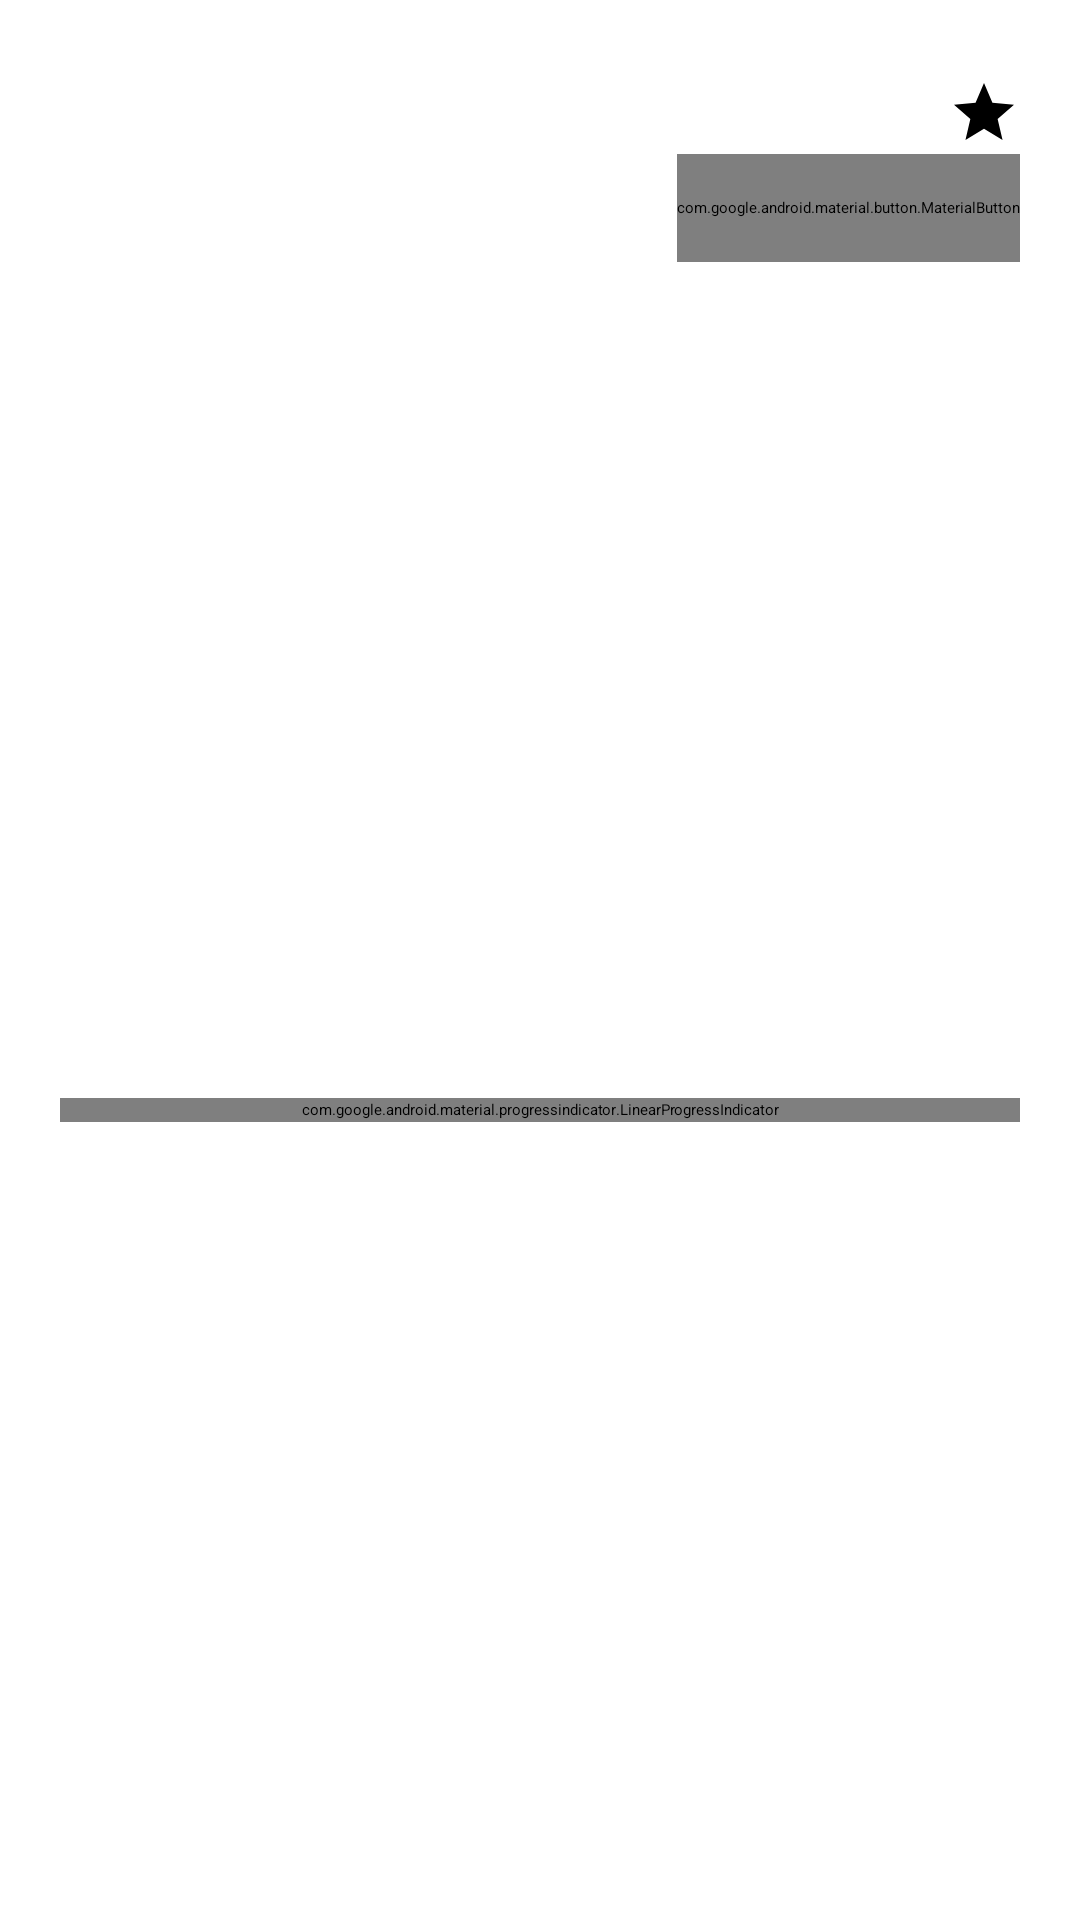

Where to tap for icons on this 1080px×1920px app screen, as [x,y]:
星标: [984,111]
